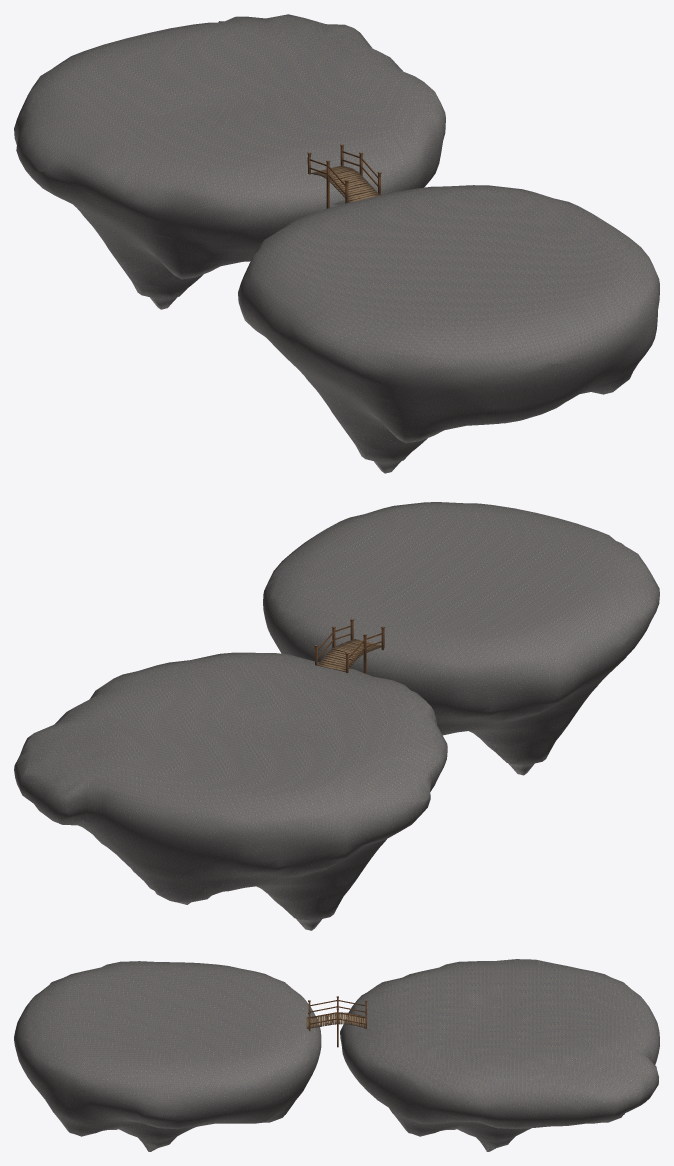
Rendered from level.gltf.
3 renders of one model, top to bottom at view 1: azimuth 30°, elevation 25°; view 2: azimuth 150°, elevation 25°; view 3: azimuth 270°, elevation 25°, orthographic. The views are drawn at different scales.
Visible parts, largest first — view 1: Cube.001, Cube.003, woodbridge; view 2: Cube.003, Cube.001, woodbridge; view 3: Cube.003, Cube.001, woodbridge.
Part boxes in pixels (x1,y1,x2,y2): Cube.001: [238, 185, 659, 473]; Cube.003: [14, 14, 445, 309]; woodbridge: [307, 144, 381, 208]; Cube.003: [14, 652, 447, 930]; Cube.001: [263, 502, 659, 775]; woodbridge: [314, 618, 384, 673]; Cube.003: [340, 959, 659, 1151]; Cube.001: [14, 961, 321, 1151]; woodbridge: [306, 996, 367, 1047].
Size of the model in its own units: 75.07 by 41.06 by 148.
Materials: 3 (3 with a texture image).
